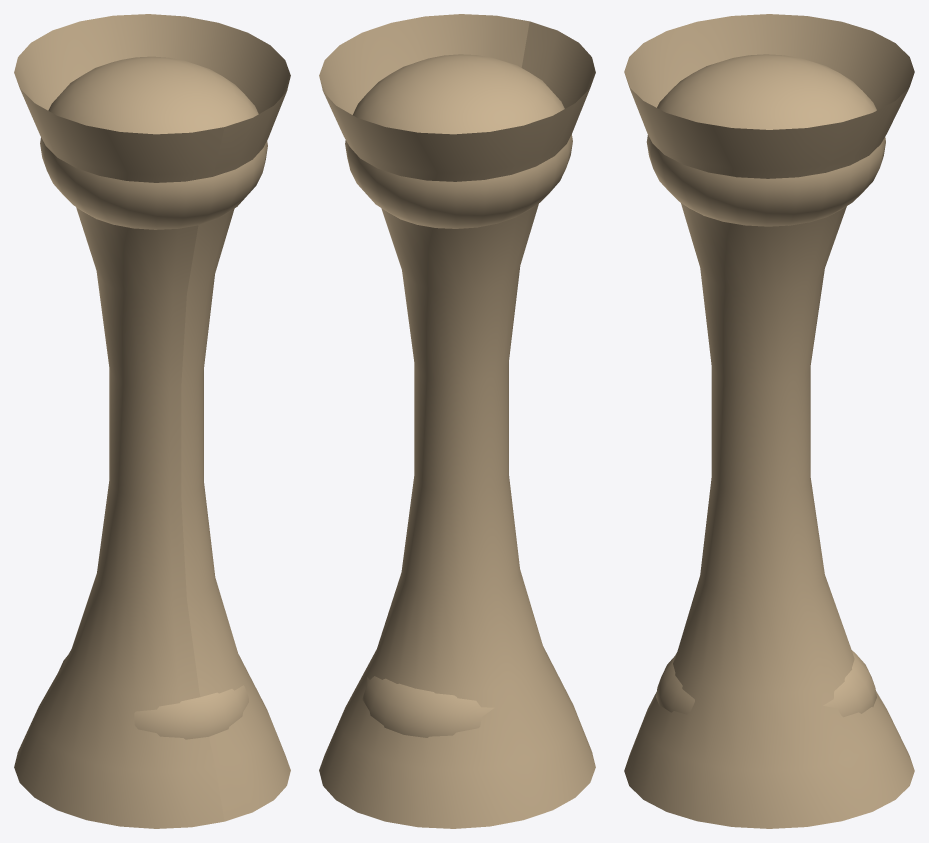
The model's file is right_digit_3_proximal.glb.
The picture shows the model from 3 angles, left to right: view 1: azimuth 30°, elevation 25°; view 2: azimuth 150°, elevation 25°; view 3: azimuth 270°, elevation 25°; orthographic projection.
Visible parts, largest first — view 1: right_digit_3_proximal:diaphysis, right_digit_3_proximal:proximal-envelope, right_digit_3_proximal:distal-envelope; view 2: right_digit_3_proximal:diaphysis, right_digit_3_proximal:proximal-envelope, right_digit_3_proximal:distal-envelope; view 3: right_digit_3_proximal:diaphysis, right_digit_3_proximal:proximal-envelope, right_digit_3_proximal:distal-envelope.
Part boxes in pixels (x1,y1,x2,y2): right_digit_3_proximal:diaphysis: [14, 14, 290, 828]; right_digit_3_proximal:proximal-envelope: [40, 56, 267, 229]; right_digit_3_proximal:distal-envelope: [58, 655, 248, 739]; right_digit_3_proximal:diaphysis: [319, 14, 595, 828]; right_digit_3_proximal:proximal-envelope: [345, 54, 572, 228]; right_digit_3_proximal:distal-envelope: [362, 676, 494, 737]; right_digit_3_proximal:diaphysis: [624, 14, 914, 828]; right_digit_3_proximal:proximal-envelope: [646, 54, 885, 226]; right_digit_3_proximal:distal-envelope: [656, 650, 876, 717].
Bounding box in the file's own units: 0.0799 × 0.2256 × 0.0846.
